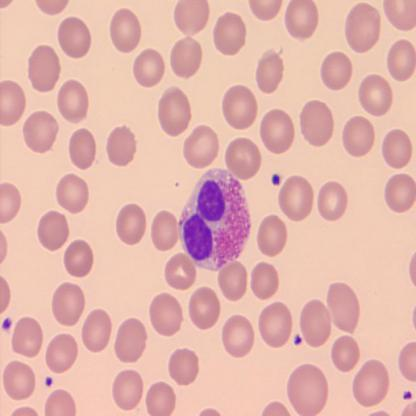Eosinophil: (178, 169, 252, 272)
